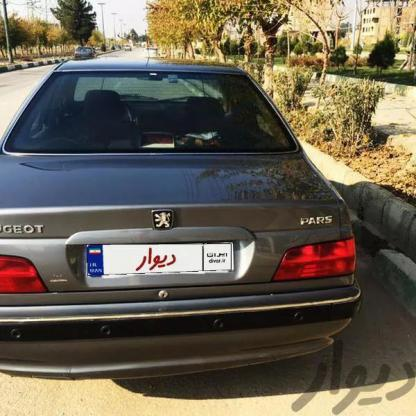Car: (0, 53, 352, 384)
